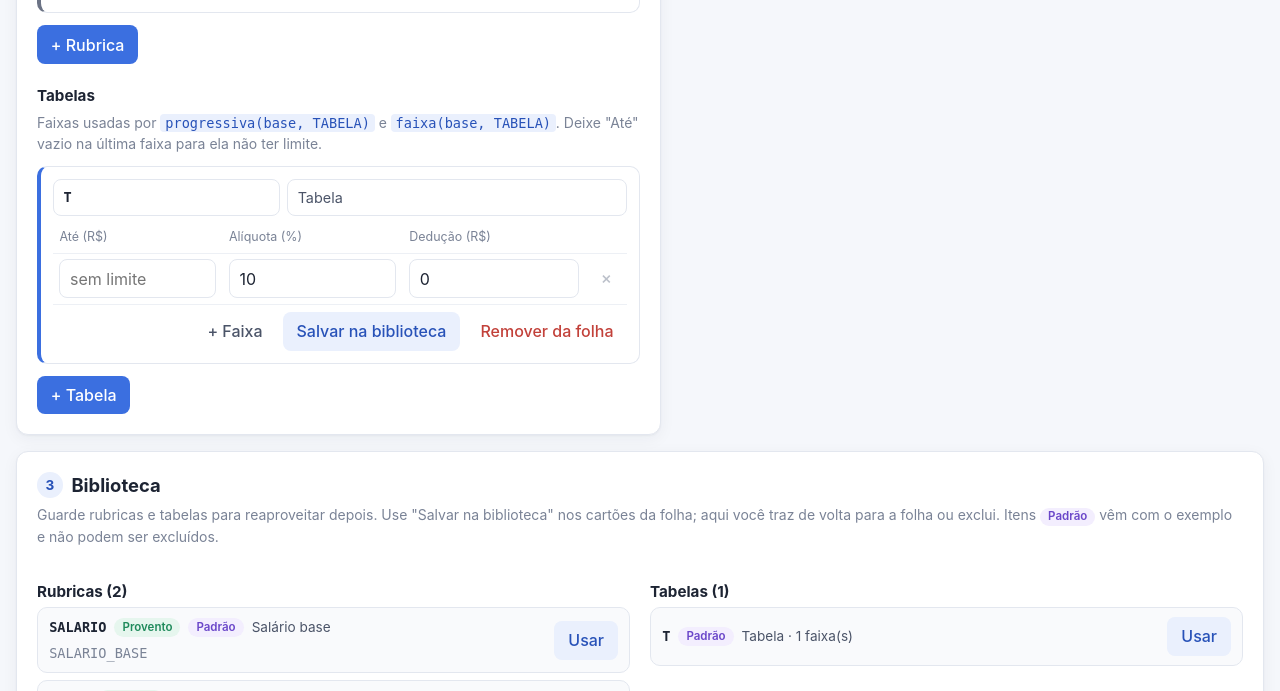
Test: App › shows server errors from the library as a toast
(page scrolled)
Click the button with aria-label "Salvar tabela T na biblioteca". click: coordinates (371, 331)
box: [283, 312, 460, 351]
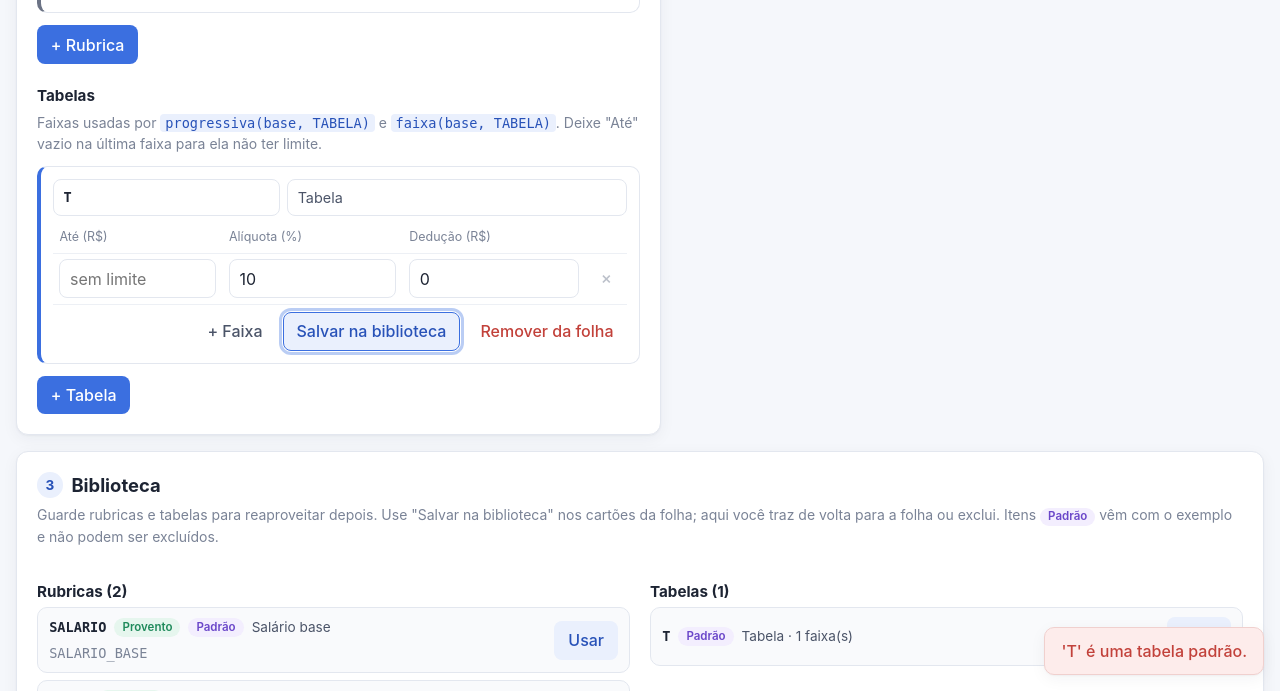
expect the text "'T' é uma tabela padrão." is shown: met, box [1044, 627, 1264, 675]
